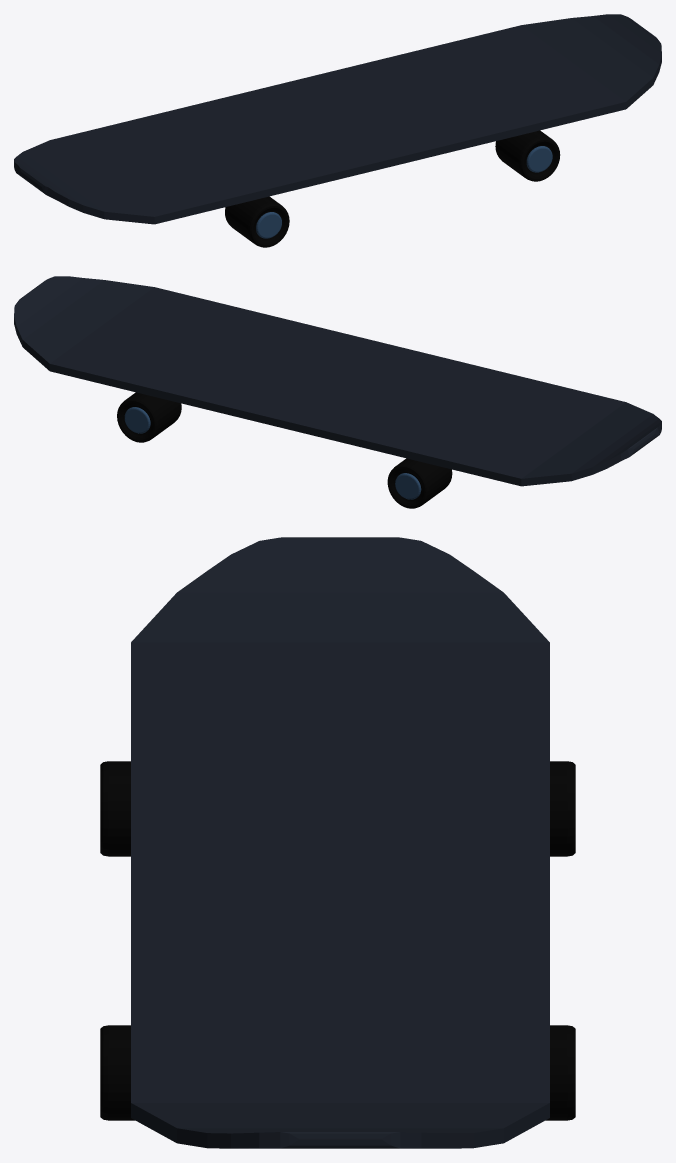
The model's file is scene_3J7WwSUT7d.glb.
3 renders of one model, top to bottom at view 1: azimuth 30°, elevation 25°; view 2: azimuth 150°, elevation 25°; view 3: azimuth 270°, elevation 25°, orthographic. The views are drawn at different scales.
Parts seen in each view (by area): view 1: Cube.001; view 2: Cube.001; view 3: Cube.001.
Boxes of the visible parts, x1,y1,x2,y2 form: Cube.001: (14,14,661,247); Cube.001: (14,276,661,508); Cube.001: (100,537,575,1148).
Bounding box in the file's own units: 43.83 × 4.84 × 14.7.
